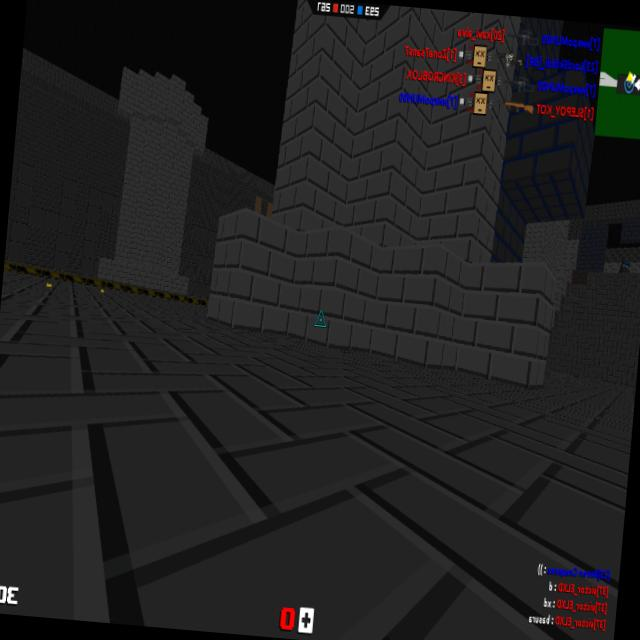enemy: (618, 256, 632, 277)
